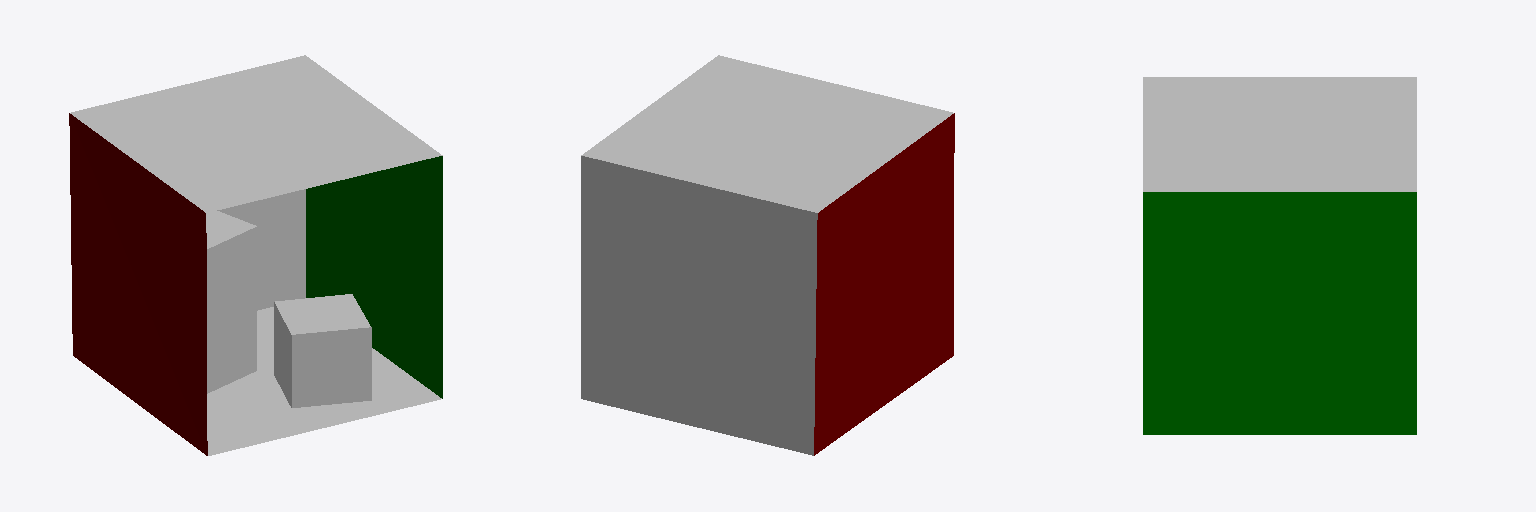
Rendered from CornelBox.obj.
3 renders of one model, left to right at view 1: azimuth 30°, elevation 25°; view 2: azimuth 150°, elevation 25°; view 3: azimuth 270°, elevation 25°, orthographic.
Visible parts, largest first — view 1: shortBox; view 2: shortBox; view 3: shortBox.
Boxes of the visible parts, box(x1,y1,x2,y2) form: shortBox: box(69, 55, 442, 455); shortBox: box(581, 55, 954, 455); shortBox: box(1143, 77, 1416, 434).
Size of the model in its own units: 2.02 by 1.99 by 2.03.